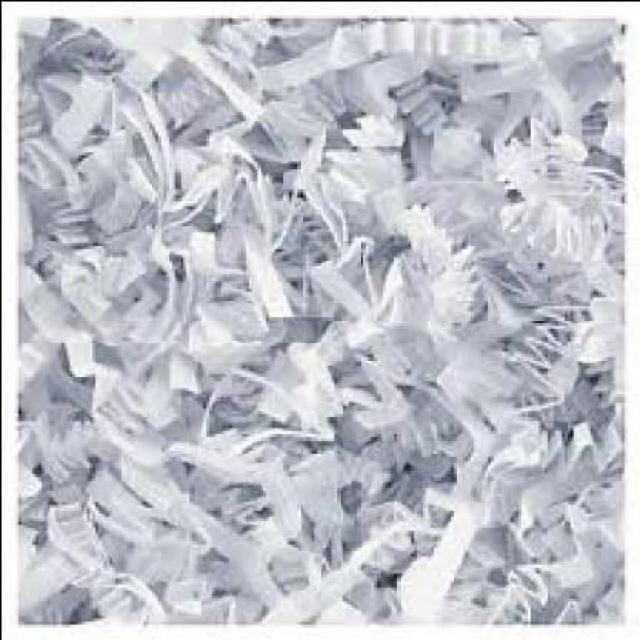PAPER: (14, 11, 617, 620)
